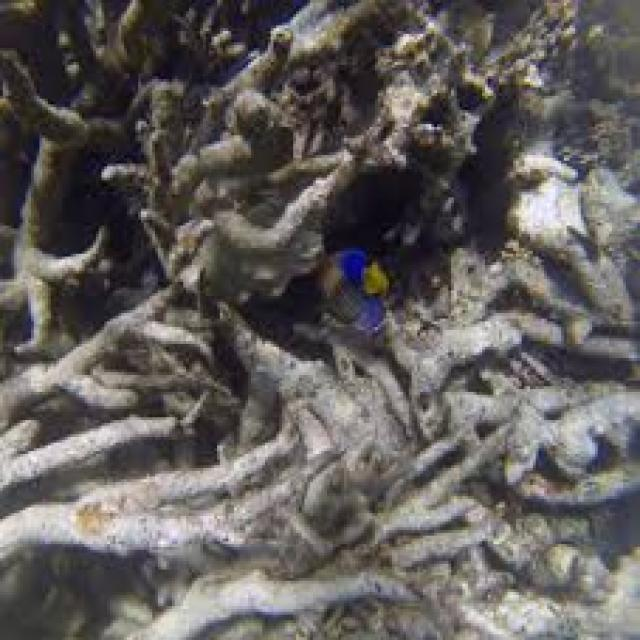Bleached: (1, 289, 291, 562), (382, 314, 638, 525), (125, 545, 410, 638)
